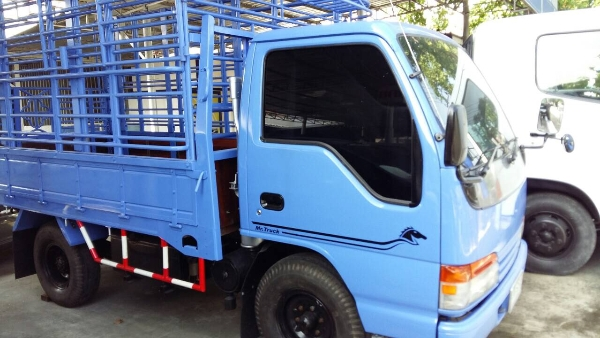truck: (127, 21, 528, 333)
